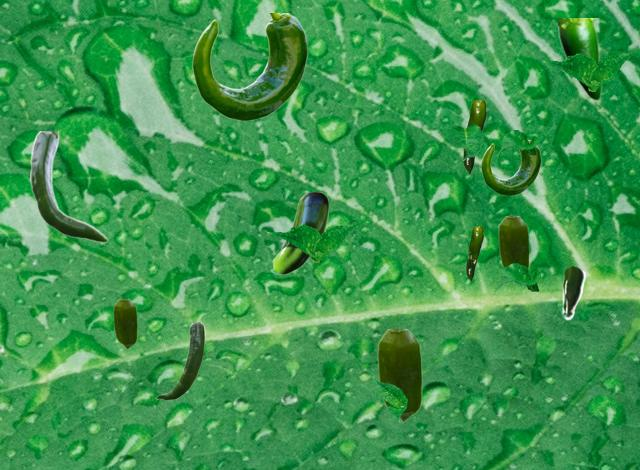green_chili: (192, 13, 307, 119), (30, 131, 107, 241), (270, 192, 327, 274), (377, 329, 421, 421), (156, 322, 204, 399), (558, 18, 601, 100), (481, 140, 540, 194), (463, 100, 485, 173), (498, 216, 528, 267), (560, 265, 585, 319), (113, 299, 136, 348), (466, 226, 482, 280)
